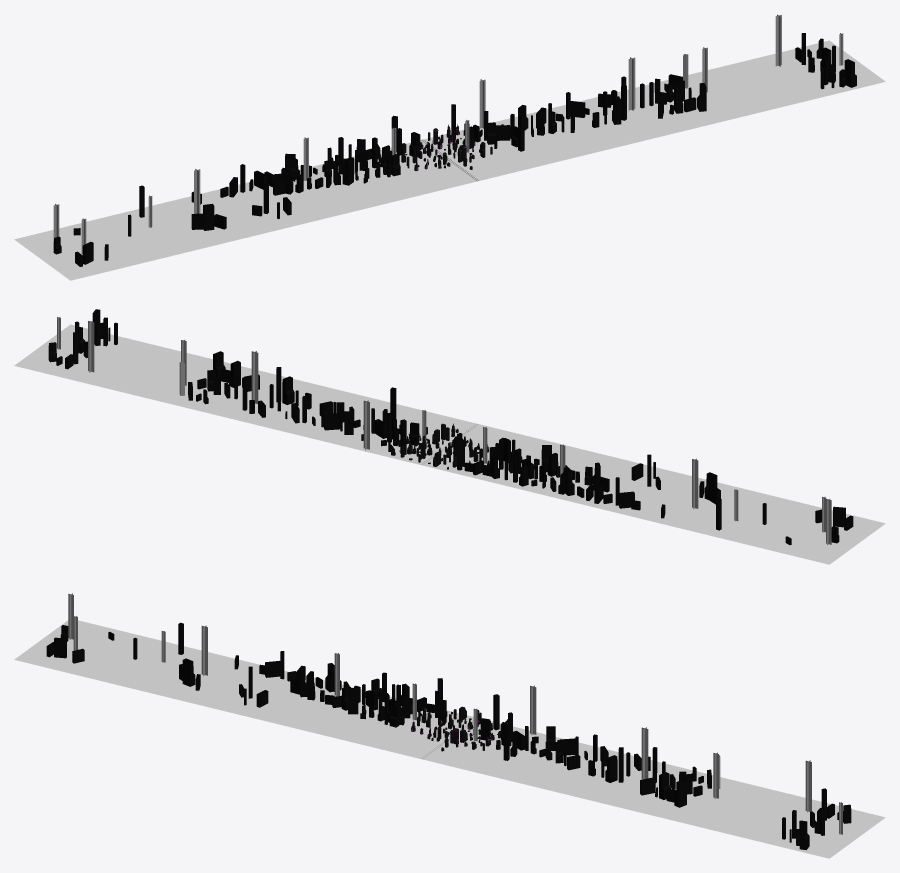
The model's file is cit2.FBX.
3 views of the same model, one above another, from view 1: azimuth 30°, elevation 25°; view 2: azimuth 150°, elevation 25°; view 3: azimuth 330°, elevation 25° (orthographic).
Parts seen in each view (by area): view 1: Plane024, building_large010, Object001; view 2: Plane024, building_large010, Object001; view 3: Plane024, building_large010, Object001.
Part boxes in pixels (box(x1,y1,x2,y2)): Plane024: box(14, 40, 885, 280); building_large010: box(53, 33, 856, 266); Object001: box(53, 14, 843, 254); Plane024: box(14, 324, 885, 564); building_large010: box(48, 309, 853, 544); Object001: box(57, 317, 831, 544); Plane024: box(14, 620, 885, 858); building_large010: box(46, 622, 851, 850); Object001: box(68, 593, 842, 834).
Bounding box in the file's own units: 20000 × 2400 × 1380.
